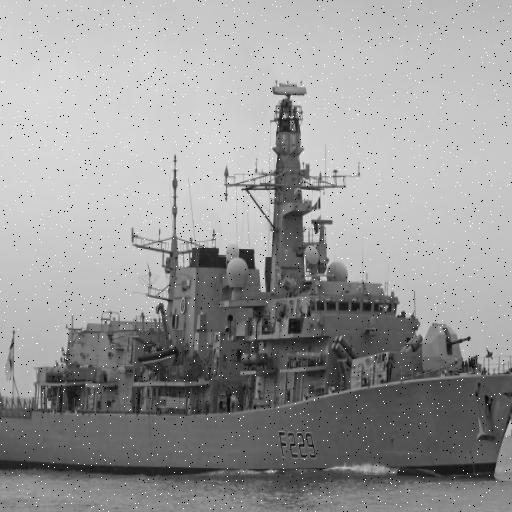Fragata: (1, 67, 512, 492)
